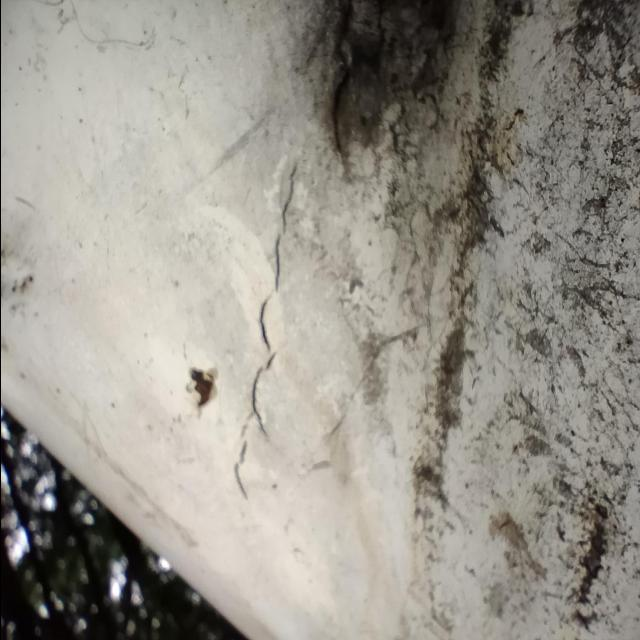Crack: (230, 150, 303, 506)
